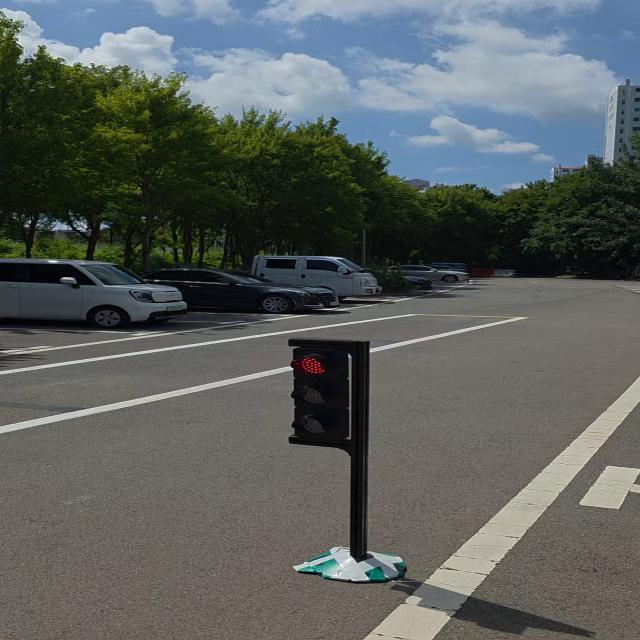red: (277, 337, 391, 457)
